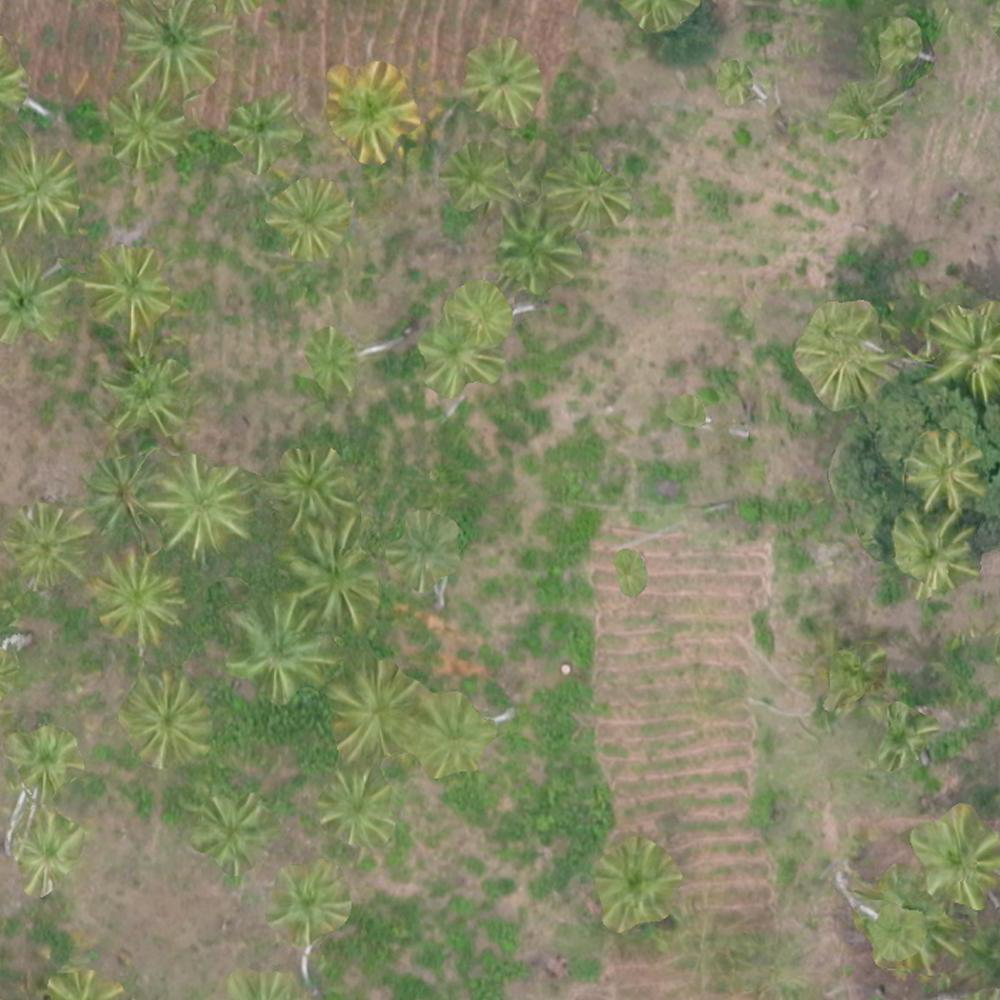Palm: (113, 4, 221, 100), (232, 599, 331, 698), (283, 525, 375, 625), (799, 302, 891, 400), (150, 458, 248, 548), (321, 663, 410, 760), (326, 64, 415, 160), (125, 674, 217, 763), (88, 555, 179, 644), (2, 136, 84, 232), (8, 501, 94, 591), (912, 811, 1000, 896), (85, 248, 175, 329), (917, 307, 1000, 394), (105, 347, 186, 436), (1, 253, 76, 343), (270, 444, 351, 527), (407, 697, 488, 780), (497, 211, 584, 288), (80, 451, 159, 535), (463, 42, 543, 124), (416, 322, 504, 396), (901, 435, 983, 514), (594, 847, 677, 924), (316, 772, 392, 855), (188, 793, 270, 869), (545, 152, 626, 228), (10, 807, 86, 886), (104, 99, 188, 169), (891, 516, 971, 589), (230, 97, 311, 166), (384, 510, 459, 584), (274, 181, 348, 252), (274, 868, 350, 936), (8, 726, 77, 800), (441, 144, 513, 209), (299, 329, 359, 394)
